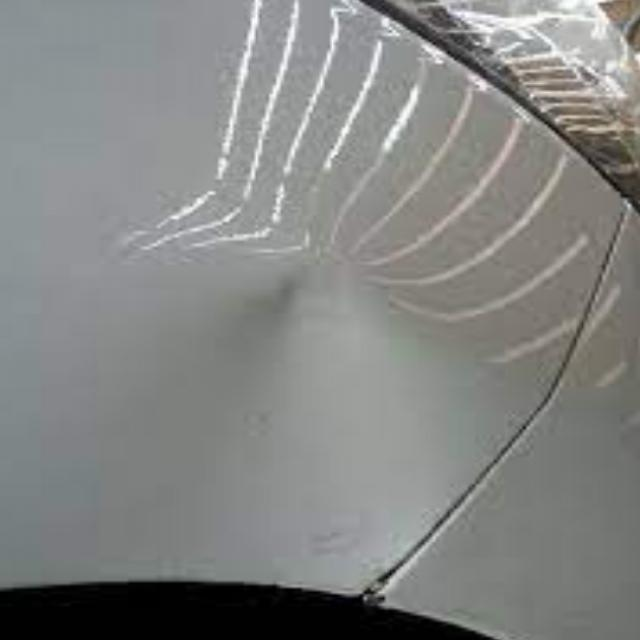dents: (232, 256, 368, 340)
